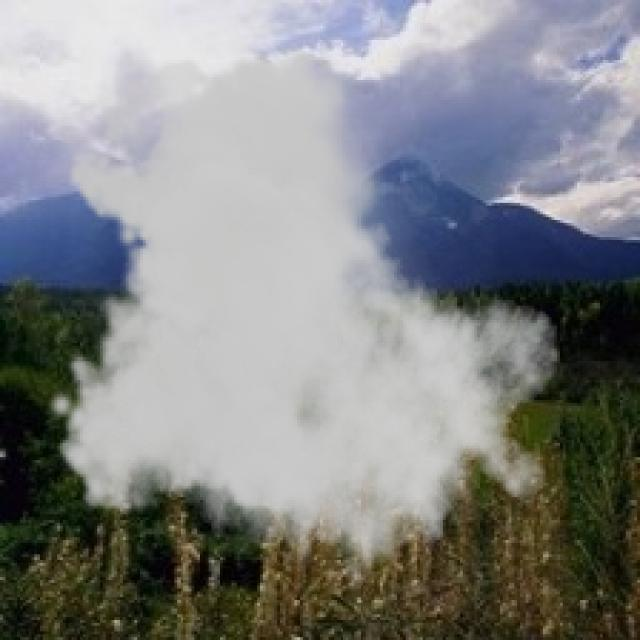smoke: (46, 43, 563, 611)
